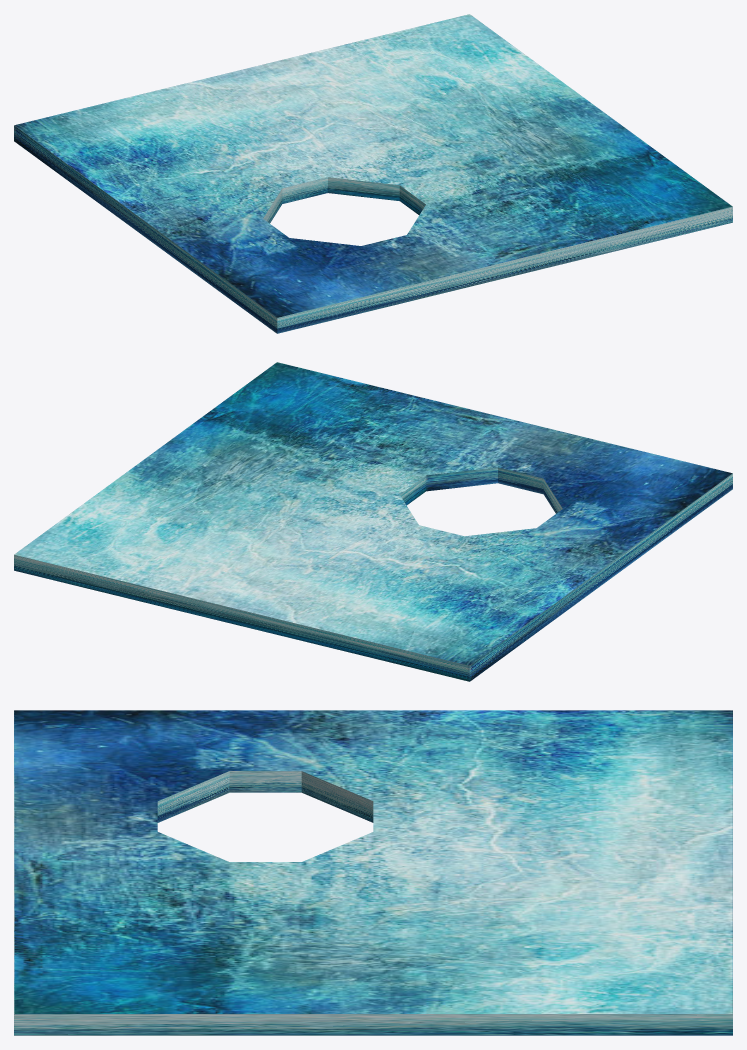
File: Outer.FBX
3 views of the same model, one above another, from view 1: azimuth 30°, elevation 25°; view 2: azimuth 150°, elevation 25°; view 3: azimuth 270°, elevation 25° (orthographic). The views are drawn at different scales.
Visible parts, largest first — view 1: PlaneHexagon; view 2: PlaneHexagon; view 3: PlaneHexagon.
Part boxes in pixels (x1=…): PlaneHexagon: x1=14, y1=14, x2=732, y2=333; PlaneHexagon: x1=14, y1=362, x2=732, y2=681; PlaneHexagon: x1=14, y1=710, x2=732, y2=1035.
Bounding box in the file's own units: 300 × 10 × 300.
Materials: 1 (1 with a texture image).
